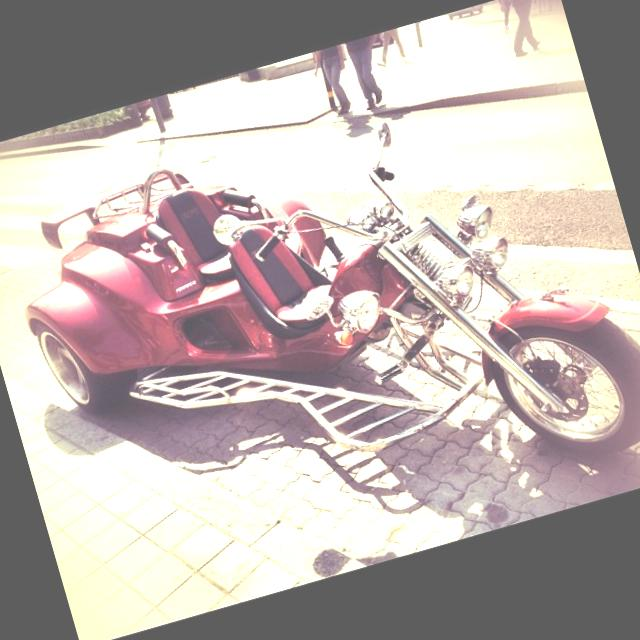Vehicle: (0, 46, 640, 601)
